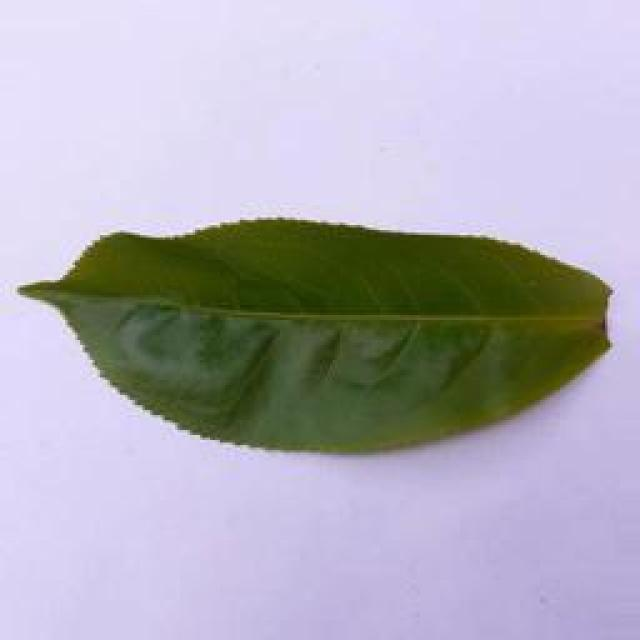Healthy: (18, 218, 614, 455)
